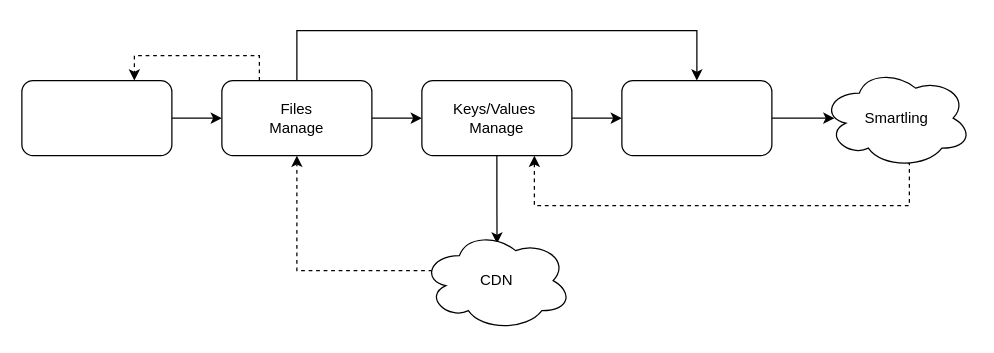
Some shapes in this 994 by 353 pixel diagram are drawn without their labels. The centre of each missing label's shape, as x and y in pixels:
Landing: [96,117]
Smartling Jobs Manage: [696,117]
